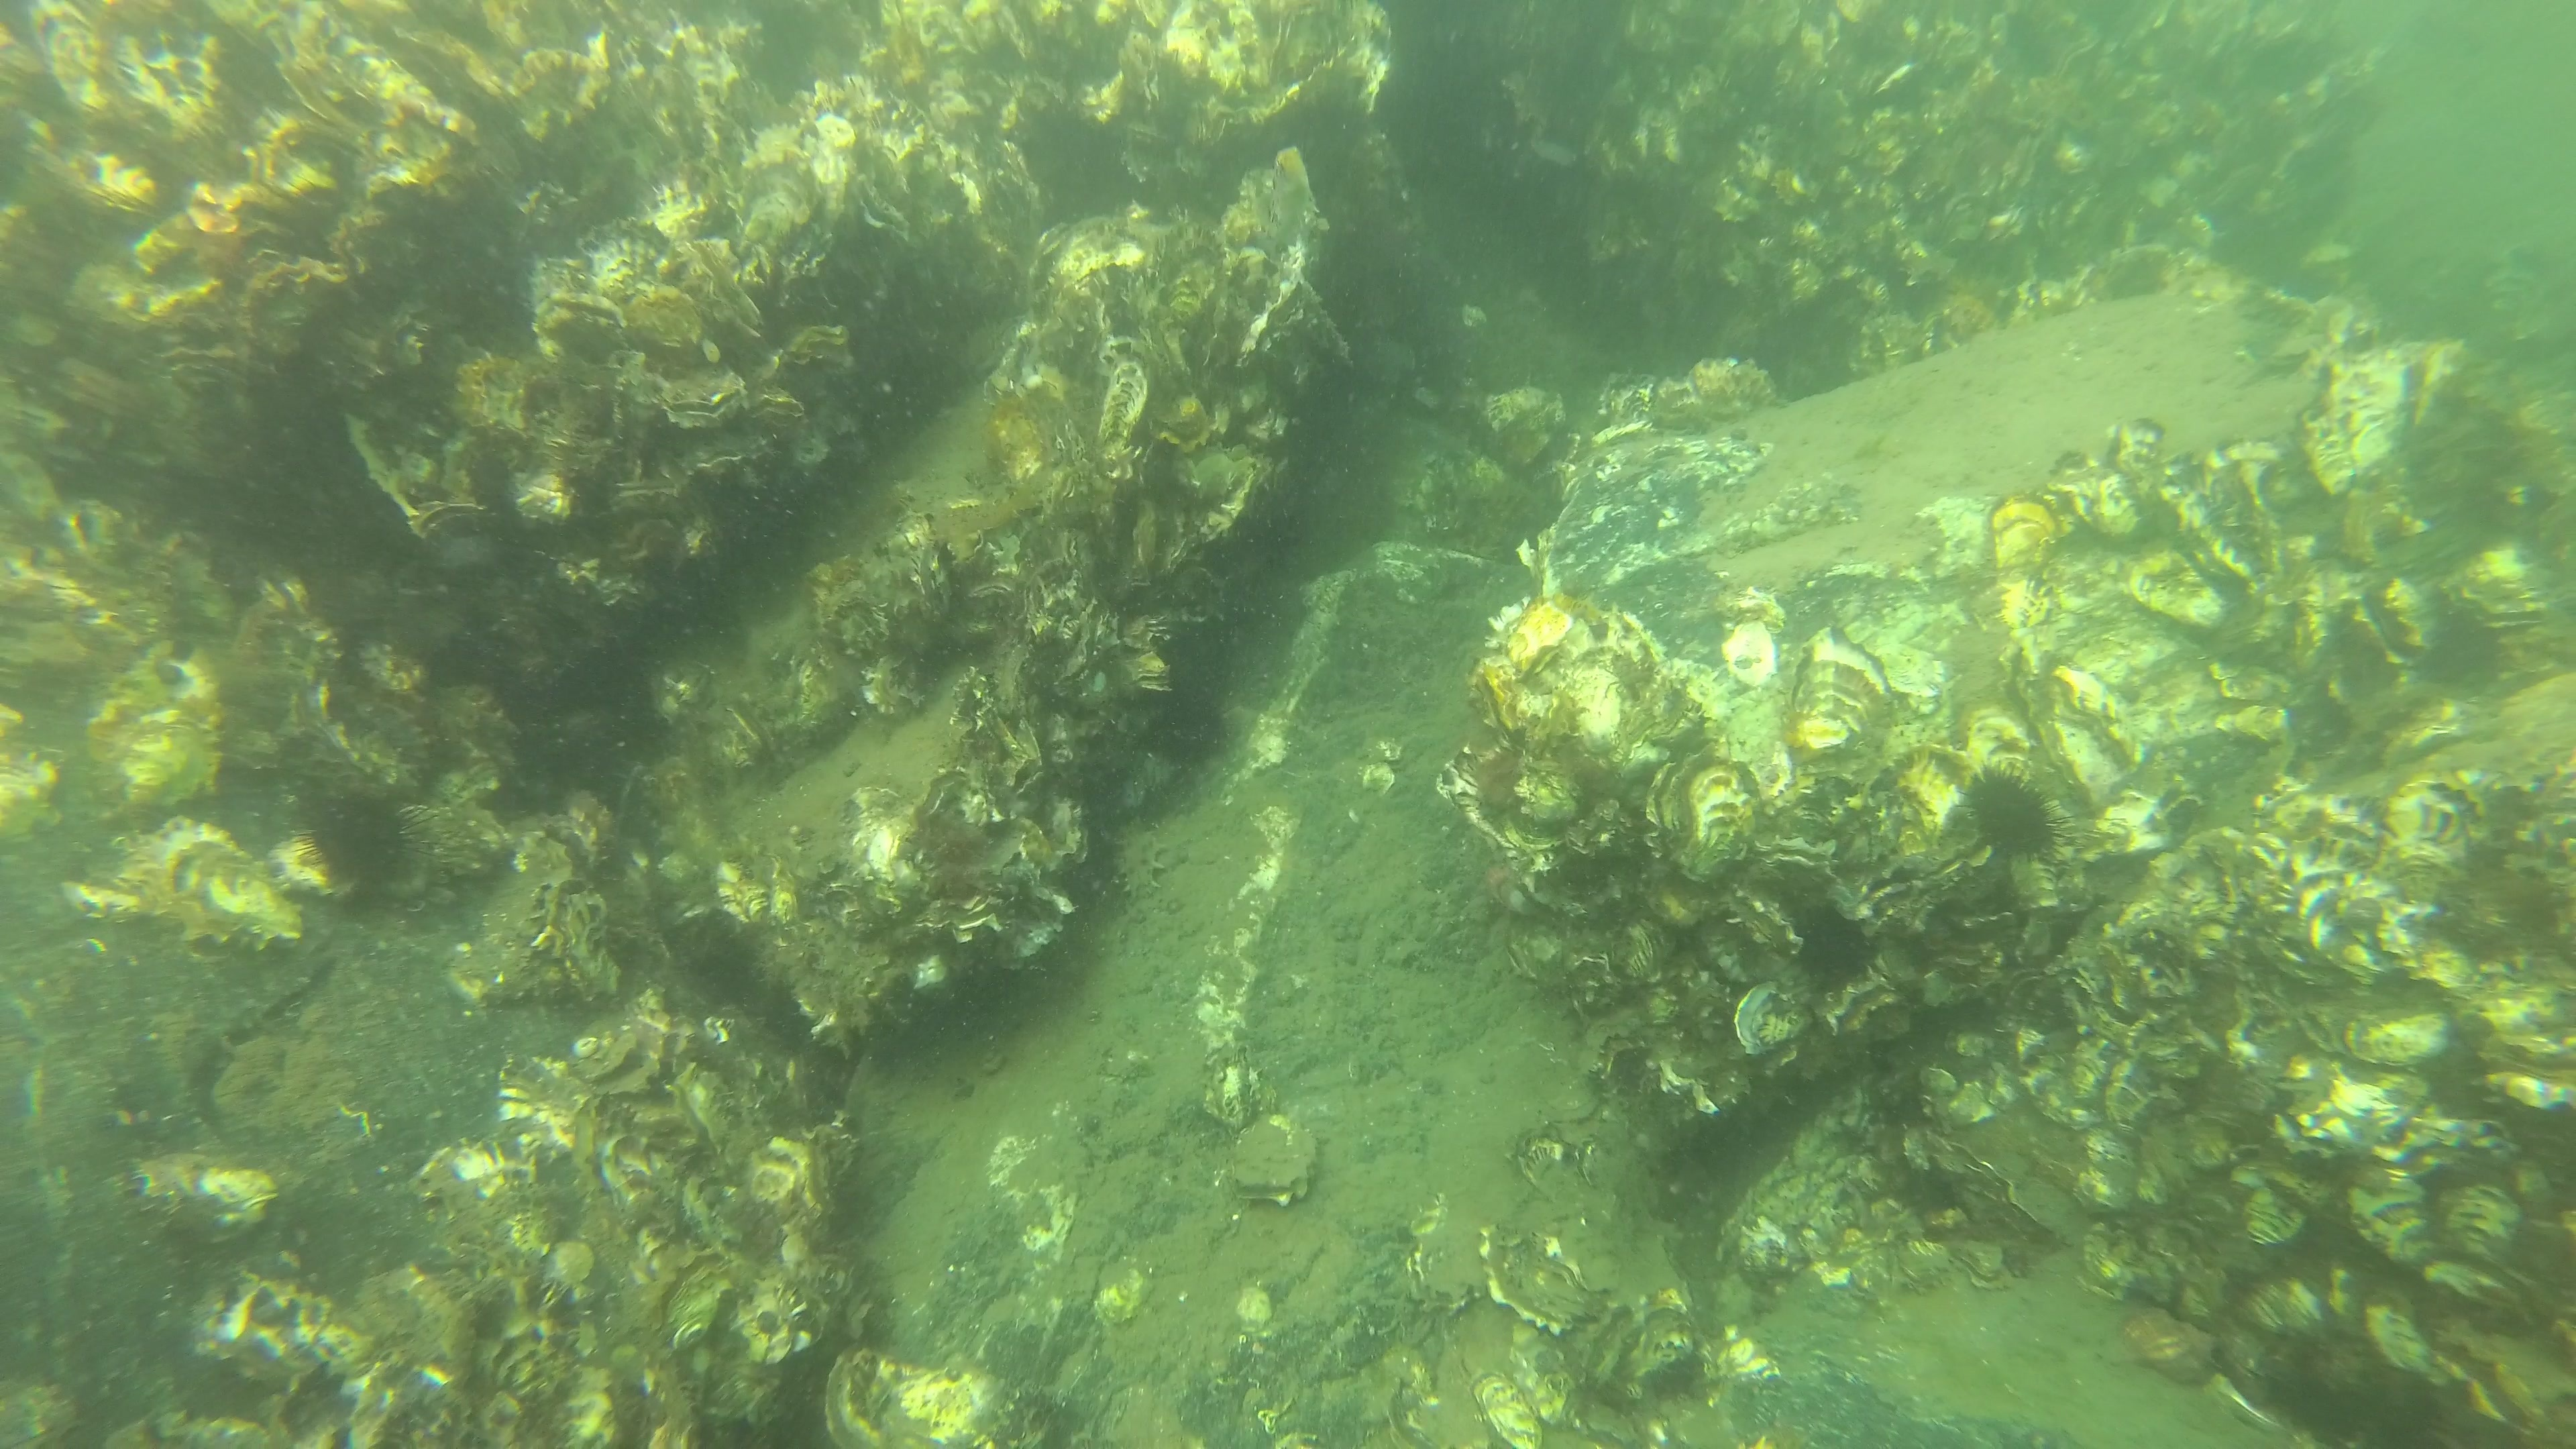echinus: (311, 793, 421, 892), (1960, 764, 2061, 869), (1141, 690, 1235, 763), (1798, 913, 1877, 991)
